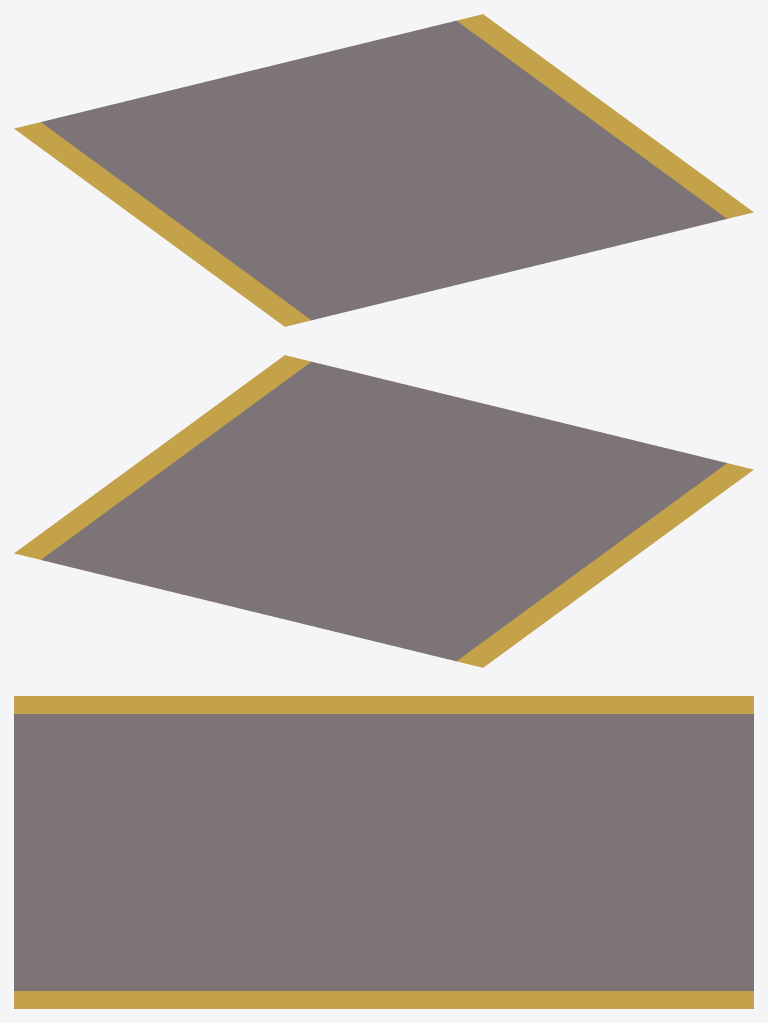
Rendered from parkingRear.fbx.
3 renders of one model, top to bottom at view 1: azimuth 30°, elevation 25°; view 2: azimuth 150°, elevation 25°; view 3: azimuth 270°, elevation 25°, orthographic. The views are drawn at different scales.
Visible parts, largest first — view 1: ParkingPlaceRear; view 2: ParkingPlaceRear; view 3: ParkingPlaceRear.
Part boxes in pixels (box(x1,y1,x2,y2)): ParkingPlaceRear: box(14, 14, 753, 326); ParkingPlaceRear: box(14, 355, 753, 667); ParkingPlaceRear: box(14, 696, 753, 1008).
Size of the model in its own units: 150 by 3.33e-14 by 150.
